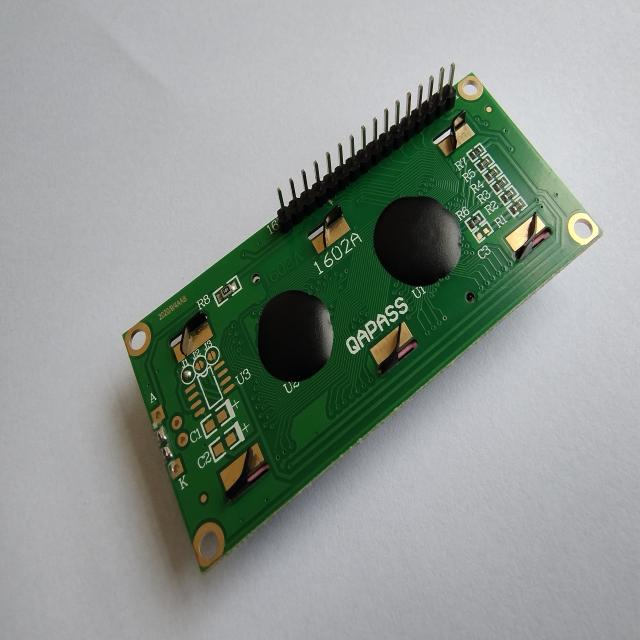lcd: (121, 63, 604, 574)
